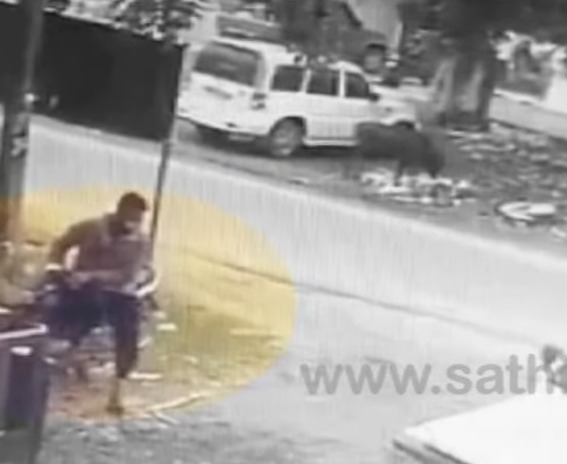person: (48, 192, 151, 413)
